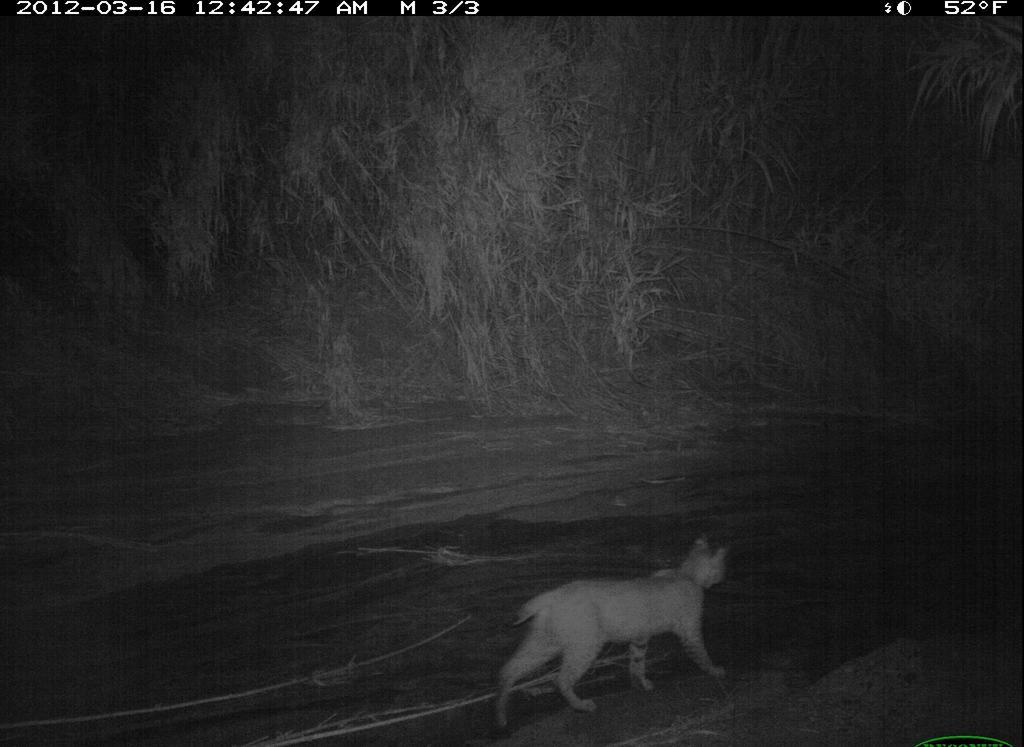bobcat: (481, 525, 742, 734)
